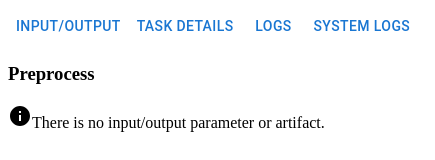
RuntimeNodeDetailsV2 › System Logs › shows an unavailable state without requesting logs for a missing URI
The width and height of the screenshot is (435, 160).
Click the button "System Logs" at (362, 26), box [306,8,418,44]
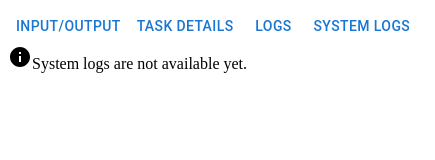
Result: the text "System logs are not available yet." is shown at [8,44,247,72]
